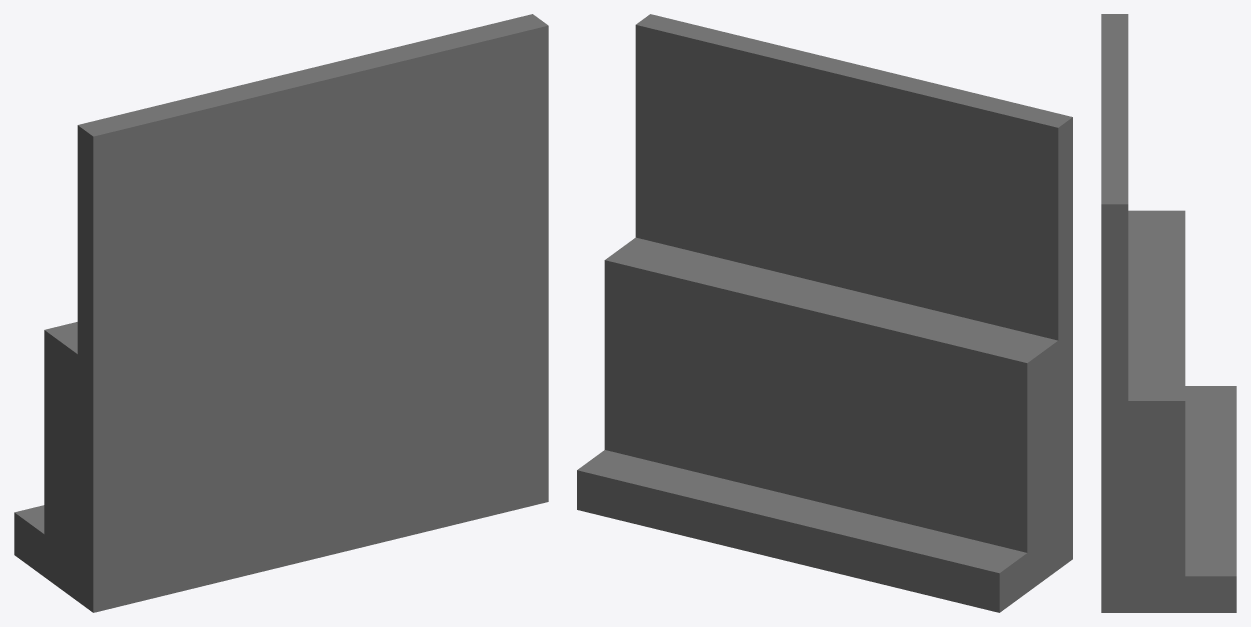
Rendered from Platform.fbx.
3 views of the same model, side by side, from view 1: azimuth 30°, elevation 25°; view 2: azimuth 150°, elevation 25°; view 3: azimuth 270°, elevation 25° (orthographic). The views are drawn at different scales.
Visible parts, largest first — view 1: Cube.095; view 2: Cube.095; view 3: Cube.095.
Part boxes in pixels (<box>): Cube.095: <box>14,14,548,612</box>; Cube.095: <box>577,14,1072,612</box>; Cube.095: <box>1101,14,1236,612</box>.
Bounding box in the file's own units: 200 × 200 × 60.14.
